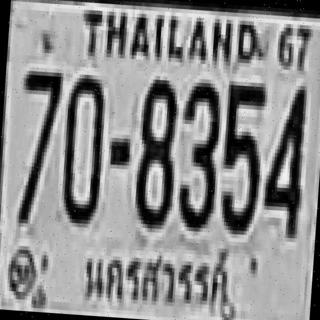N00: (58, 70, 105, 220)
N03: (174, 78, 221, 228)
N04: (260, 80, 308, 234)
N05: (216, 77, 266, 232)
N07: (14, 67, 61, 221)
N08: (132, 75, 178, 225)
P31: (80, 239, 231, 318)
